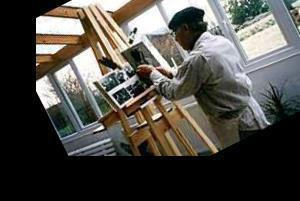Otro Obstaculo: (74, 0, 215, 180)
